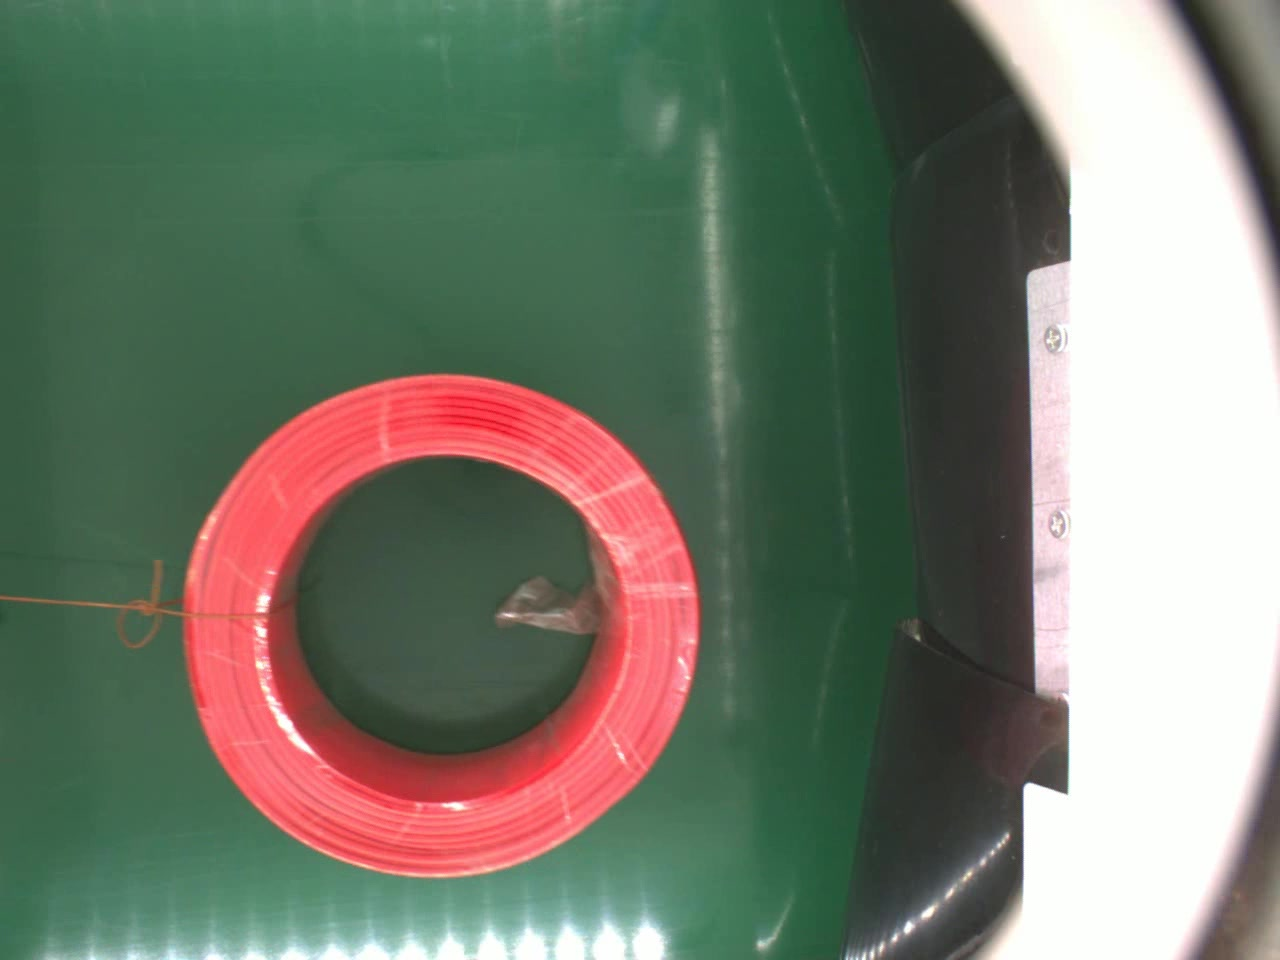red: (177, 373, 703, 886)
